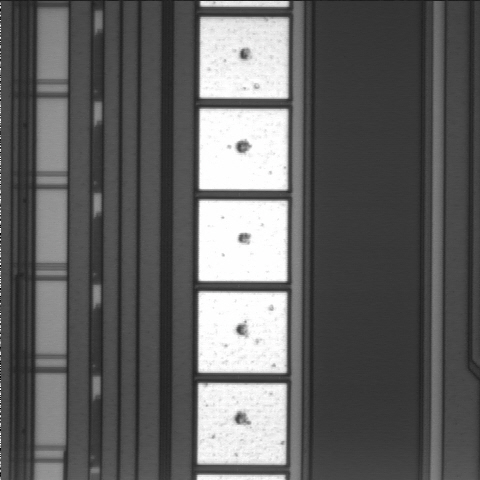pad: (197, 383, 287, 465), (199, 200, 288, 282), (198, 291, 287, 373), (200, 17, 288, 99), (199, 109, 288, 190)
